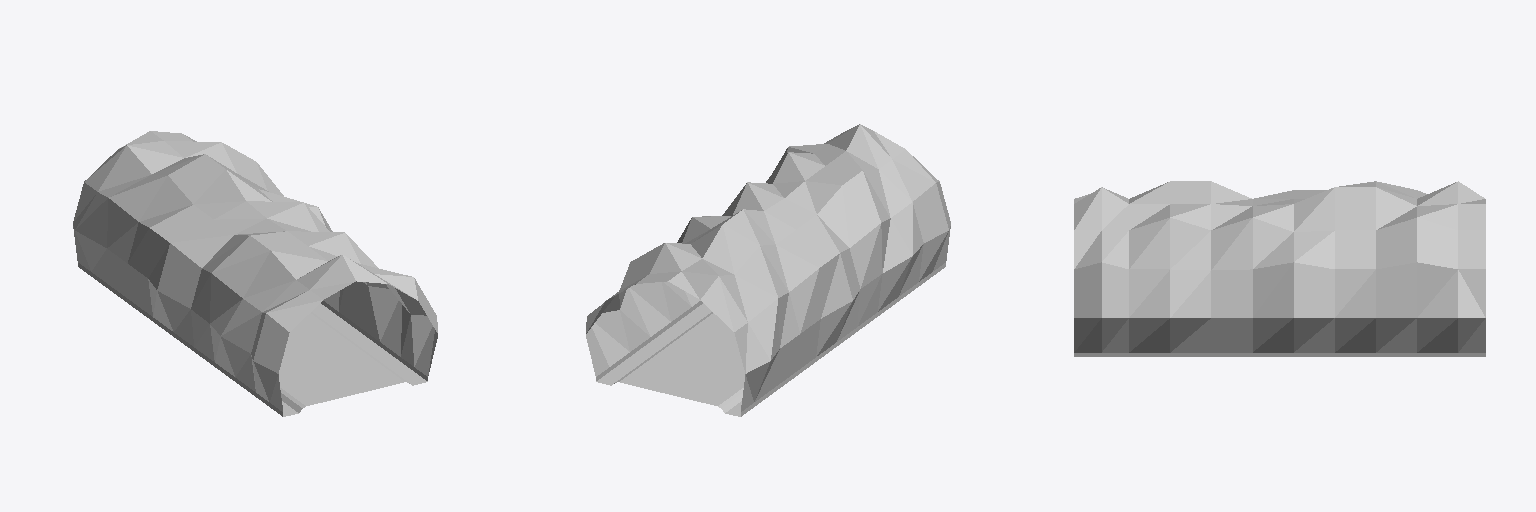
Rendered from HellBowlingStraightA.obj.
3 views of the same model, side by side, from view 1: azimuth 30°, elevation 25°; view 2: azimuth 150°, elevation 25°; view 3: azimuth 270°, elevation 25° (orthographic).
Parts seen in each view (by area): view 1: StraightA_Collision_Circle.006; view 2: StraightA_Collision_Circle.006; view 3: StraightA_Collision_Circle.006.
Part boxes in pixels (left/top/right/bottom): StraightA_Collision_Circle.006: left=73, top=131, right=437, bottom=416; StraightA_Collision_Circle.006: left=586, top=124, right=950, bottom=416; StraightA_Collision_Circle.006: left=1074, top=181, right=1485, bottom=356.
Bounding box in the file's own units: 1548 × 1087 × 3000.